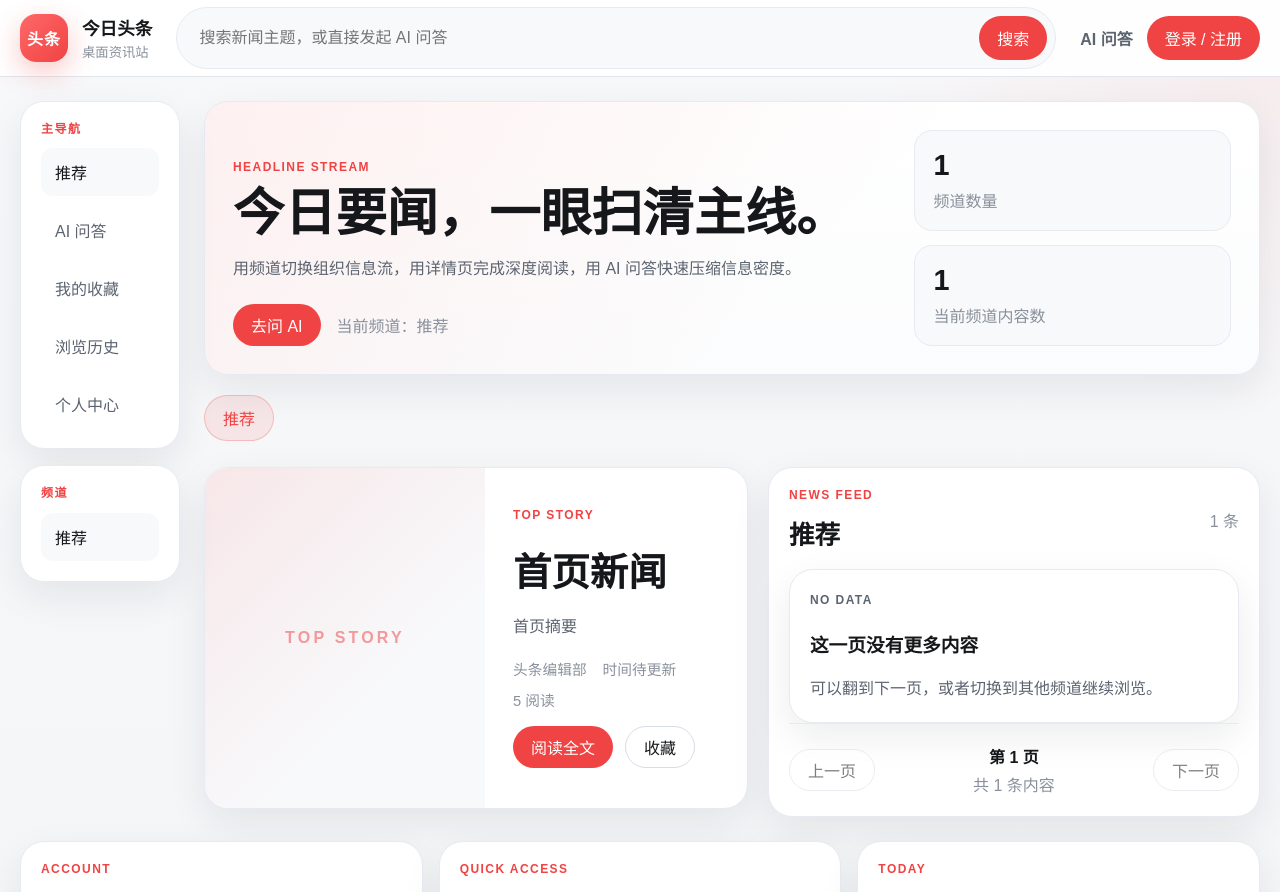
Test: auth flow › opens the auth modal when a protected nav item is clicked
Check: the heading "首页新闻" is shown, box [513,551,667,594]
Click the link "我的收藏": [87, 290] box [55,281,119,298]
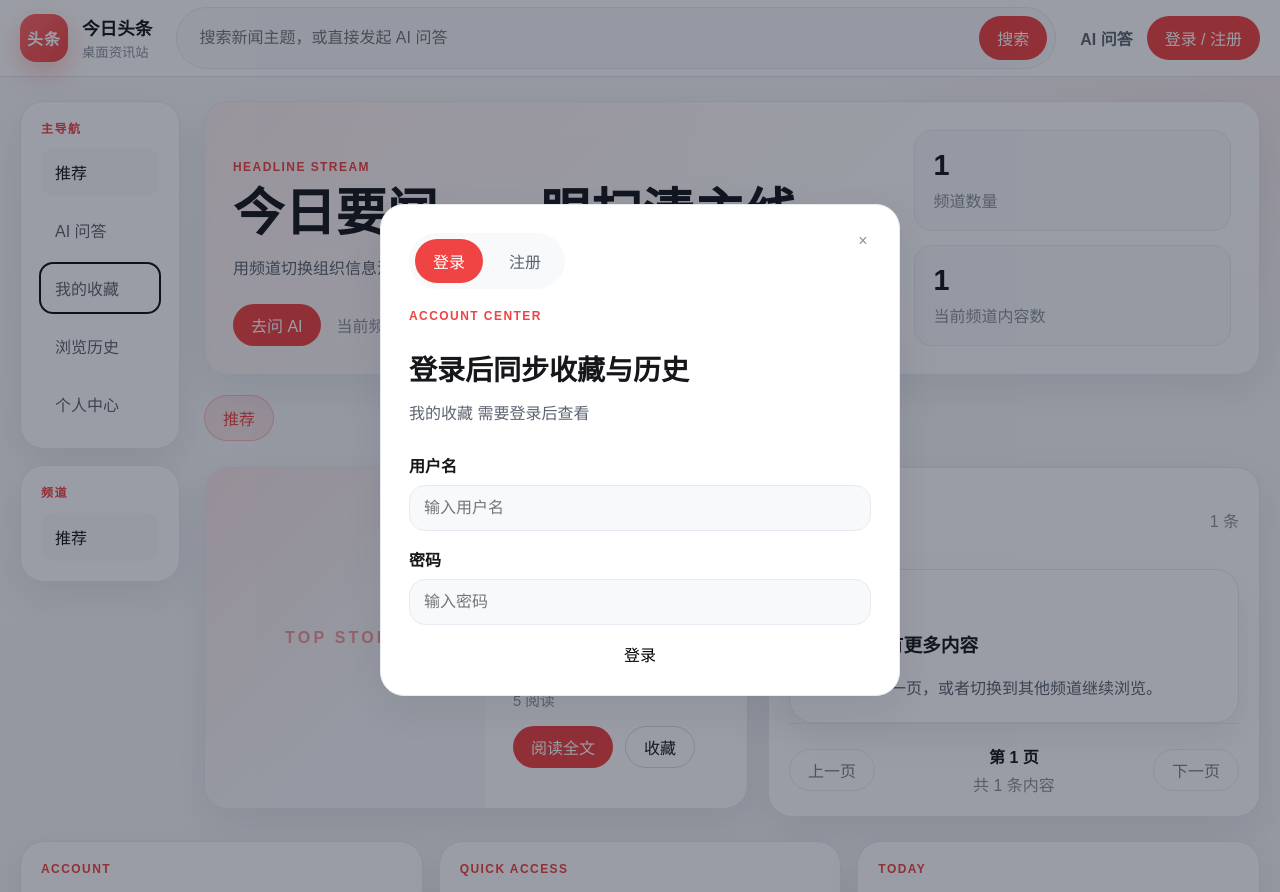
Check: the heading "登录后同步收藏与历史" is shown, box [409,355,689,386]
Check: the text "我的收藏 需要登录后查看" is shown, box [409,405,590,422]
